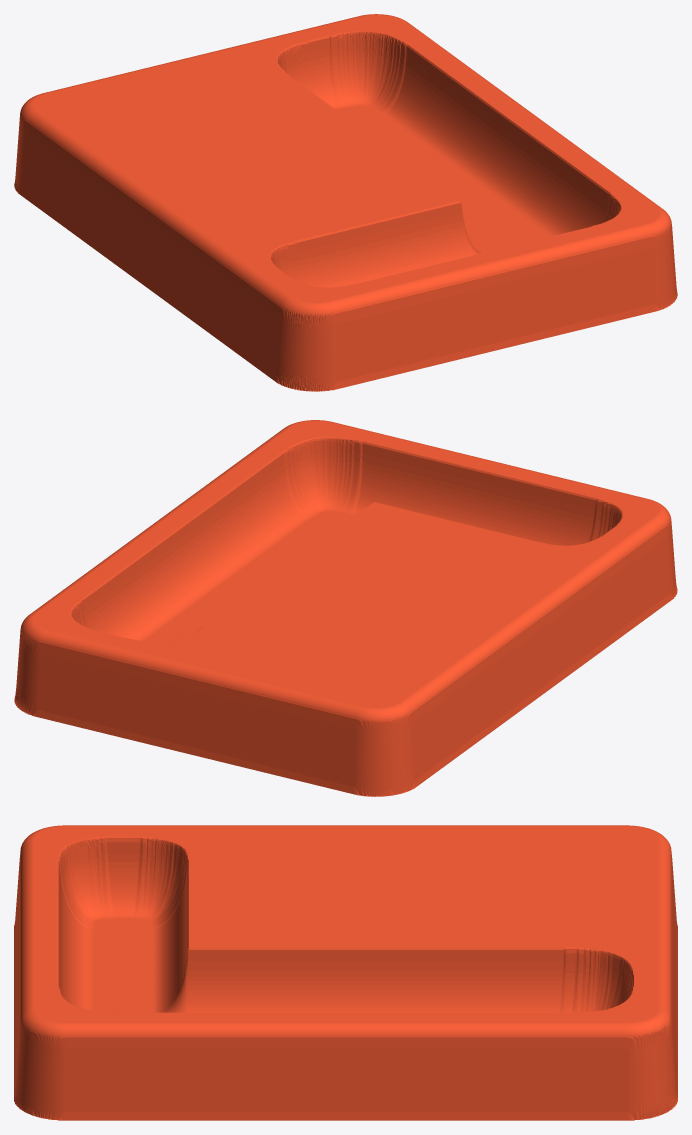
The model's file is mold.glb.
3 renders of one model, top to bottom at view 1: azimuth 30°, elevation 25°; view 2: azimuth 150°, elevation 25°; view 3: azimuth 270°, elevation 25°, orthographic. The views are drawn at different scales.
Visible parts, largest first — view 1: geometry_0; view 2: geometry_0; view 3: geometry_0.
Part boxes in pixels (bbox=[...]): geometry_0: bbox=[14, 14, 677, 391]; geometry_0: bbox=[14, 420, 677, 796]; geometry_0: bbox=[14, 825, 677, 1120].
Size of the model in its own units: 0.0894 by 0.0175 by 0.1178.
